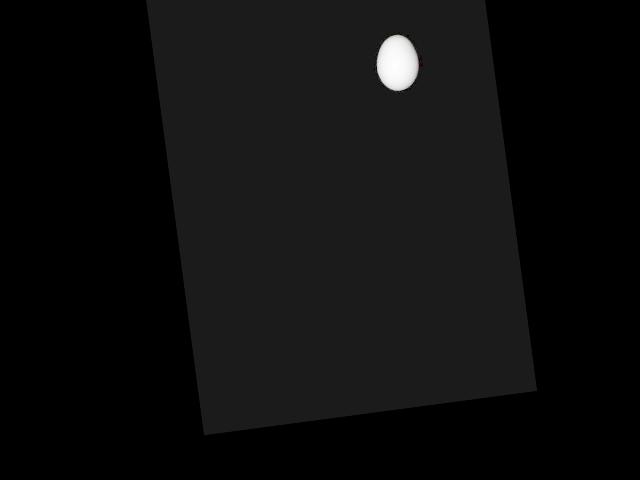egg: (373, 33, 421, 93)
